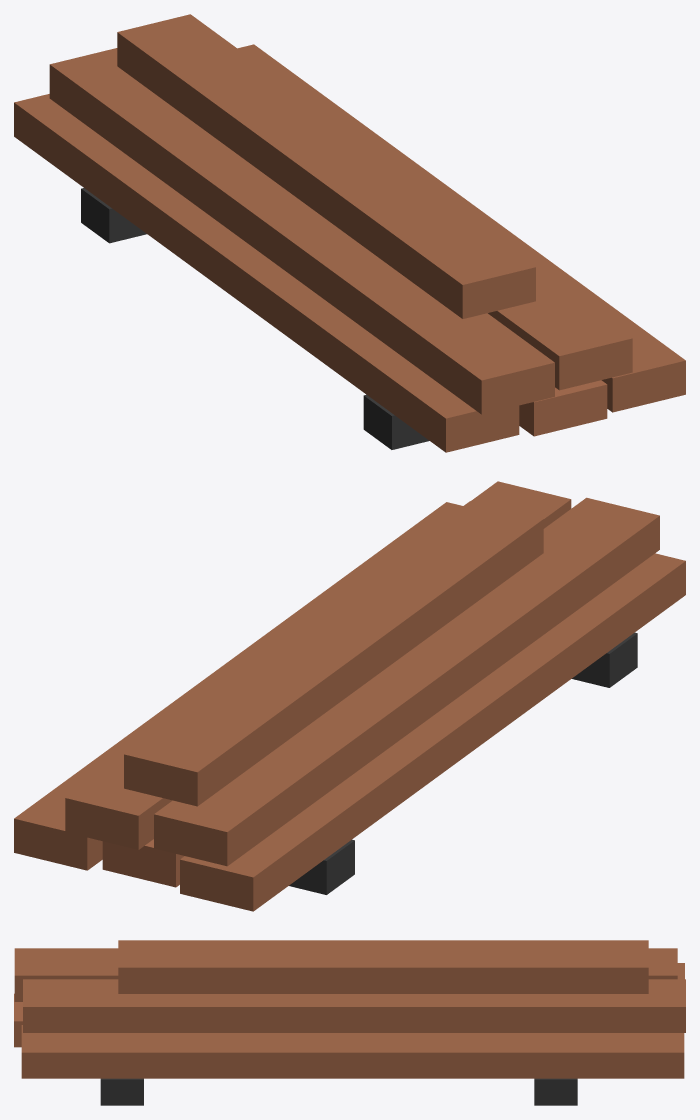
File: planks-wood-b.glb
3 renders of one model, top to bottom at view 1: azimuth 30°, elevation 25°; view 2: azimuth 150°, elevation 25°; view 3: azimuth 270°, elevation 25°, orthographic. The views are drawn at different scales.
Parts seen in each view (by area): view 1: Planks Wood V2; view 2: Planks Wood V2; view 3: Planks Wood V2.
Part boxes in pixels (x1,y1,x2,y2): Planks Wood V2: [14, 14, 685, 452]; Planks Wood V2: [14, 481, 685, 911]; Planks Wood V2: [14, 940, 685, 1105].
Bounding box in the file's own units: 1.5 × 0.8 × 4.65.
Materials: 1 (1 with a texture image).
